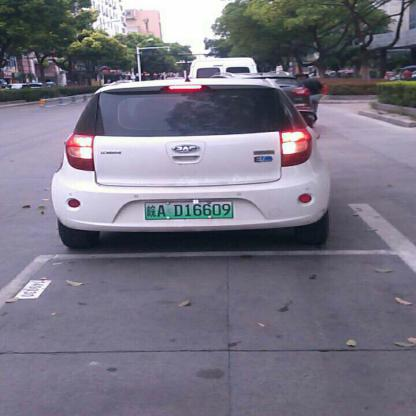lp: (144, 200, 233, 218)
